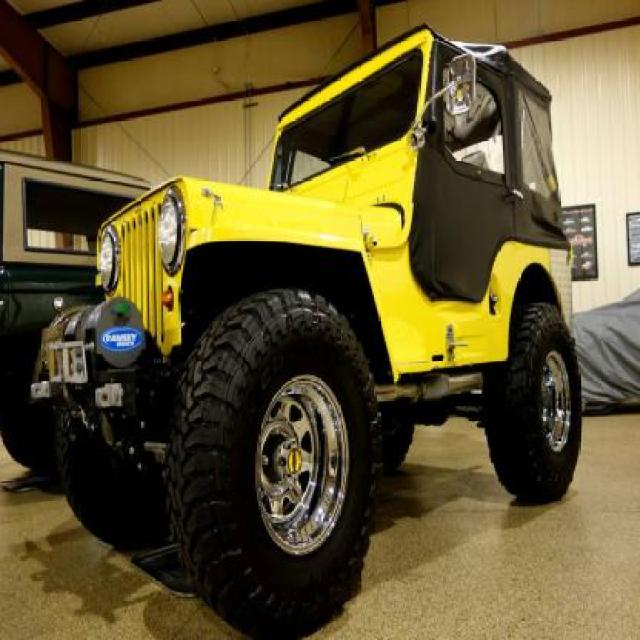Jeep: (40, 31, 582, 618)
